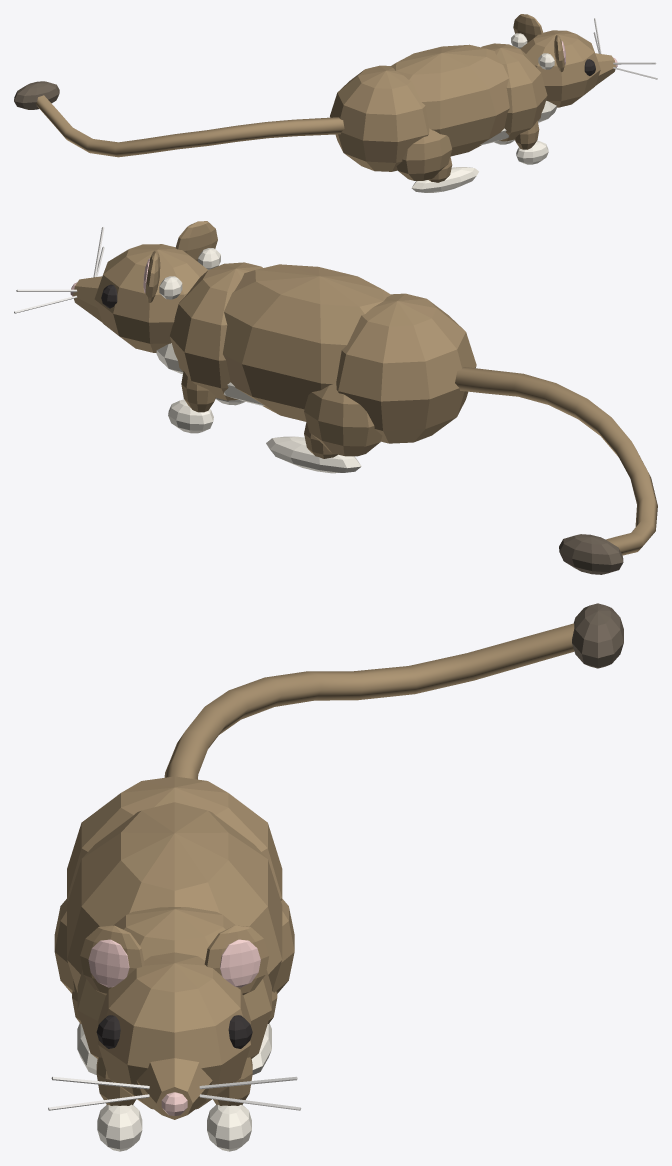
The model's file is animal_gerbil.glb.
3 renders of one model, top to bottom at view 1: azimuth 30°, elevation 25°; view 2: azimuth 150°, elevation 25°; view 3: azimuth 270°, elevation 25°, orthographic. The views are drawn at different scales.
Visible parts, largest first — view 1: ArkAyak_-1; view 2: ArkAyak_-1; view 3: ArkAyak_-1.
Boxes of the visible parts, left/top/right/bottom form: ArkAyak_-1: left=14, top=14, right=657, bottom=192; ArkAyak_-1: left=14, top=221, right=657, bottom=574; ArkAyak_-1: left=48, top=603, right=623, bottom=1151.
Size of the model in its own units: 6.42 by 1.48 by 3.16.
